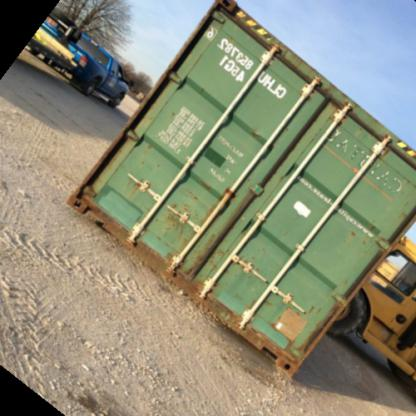Damage: (152, 196, 200, 249), (322, 127, 366, 170), (264, 303, 304, 345), (372, 159, 408, 198), (220, 4, 251, 32), (342, 224, 368, 253), (137, 134, 156, 151), (128, 176, 144, 192)
